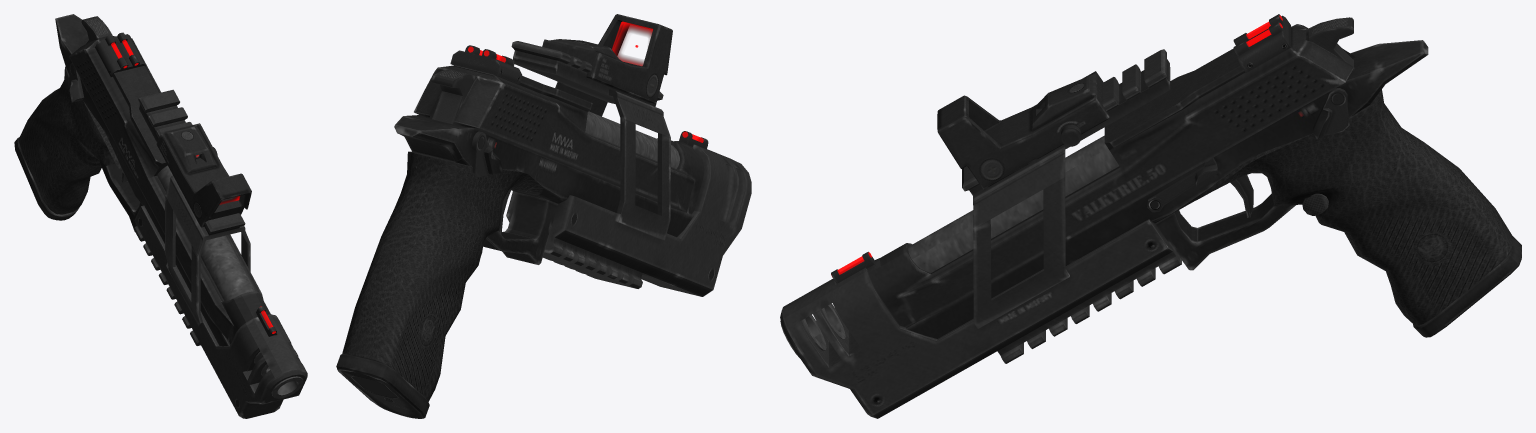
The model's file is gun.glb.
3 views of the same model, side by side, from view 1: azimuth 30°, elevation 25°; view 2: azimuth 150°, elevation 25°; view 3: azimuth 270°, elevation 25° (orthographic). The views are drawn at different scales.
Parts seen in each view (by area): view 1: Plane003, Plane001_02 - Default_0, Object015_02 - Default_0, Box003, Plane002_02 - Default_0, Tube001, Object021_02 - Default_0, Object026_02 - Default_0, Object025_02 - Default_0, Object030_03 - Default_0; view 2: Plane003, Object015_02 - Default_0, Plane001_02 - Default_0, Plane002_02 - Default_0, Box003, Object021_02 - Default_0, Object026_02 - Default_0, Tube001, Object025_02 - Default_0, Box005_03 - Default_0, Box004_03 - Default_0; view 3: Plane003, Plane001_02 - Default_0, Object015_02 - Default_0, Plane002_02 - Default_0, Box003, Tube001, Object021_02 - Default_0, Object025_02 - Default_0, Object026_02 - Default_0, Object022_02 - Default_0.
Part boxes in pixels (<box>): Plane003: <box>134,89,307,418</box>; Plane001_02 - Default_0: <box>69,32,276,371</box>; Object015_02 - Default_0: <box>18,66,124,214</box>; Box003: <box>156,123,251,227</box>; Plane002_02 - Default_0: <box>55,14,230,346</box>; Tube001: <box>157,165,303,398</box>; Object021_02 - Default_0: <box>14,137,79,220</box>; Object026_02 - Default_0: <box>81,16,112,43</box>; Object025_02 - Default_0: <box>68,63,83,102</box>; Object030_03 - Default_0: <box>111,39,275,333</box>; Plane003: <box>506,41,751,296</box>; Object015_02 - Default_0: <box>342,151,542,401</box>; Plane001_02 - Default_0: <box>414,45,708,214</box>; Plane002_02 - Default_0: <box>394,115,693,264</box>; Box003: <box>542,14,672,104</box>; Object021_02 - Default_0: <box>336,354,429,418</box>; Object026_02 - Default_0: <box>431,69,475,124</box>; Tube001: <box>585,111,679,168</box>; Object025_02 - Default_0: <box>472,131,503,176</box>; Box005_03 - Default_0: <box>612,21,652,65</box>; Box004_03 - Default_0: <box>613,23,652,65</box>; Plane003: <box>780,49,1181,418</box>; Plane001_02 - Default_0: <box>831,14,1355,327</box>; Object015_02 - Default_0: <box>1196,89,1511,326</box>; Plane002_02 - Default_0: <box>906,40,1428,338</box>; Box003: <box>937,71,1109,189</box>; Tube001: <box>780,135,1118,357</box>; Object021_02 - Default_0: <box>1413,235,1521,337</box>; Object025_02 - Default_0: <box>1313,88,1349,139</box>; Object026_02 - Default_0: <box>1306,17,1353,66</box>; Object022_02 - Default_0: <box>1147,157,1217,212</box>.
Bounding box in the file's own units: 0.1294 × 0.5639 × 0.9725.
Materials: 2 (2 with a texture image).
